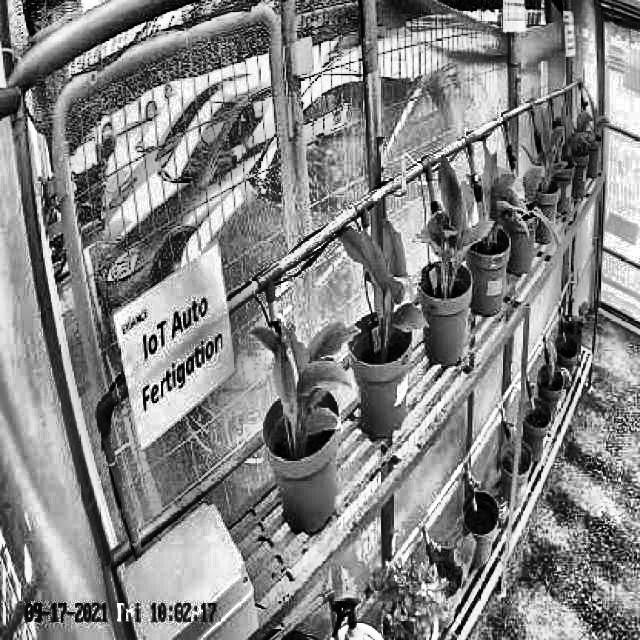plants: (248, 320, 361, 434), (336, 220, 430, 331), (416, 154, 484, 288), (477, 141, 526, 254), (540, 116, 566, 190)
